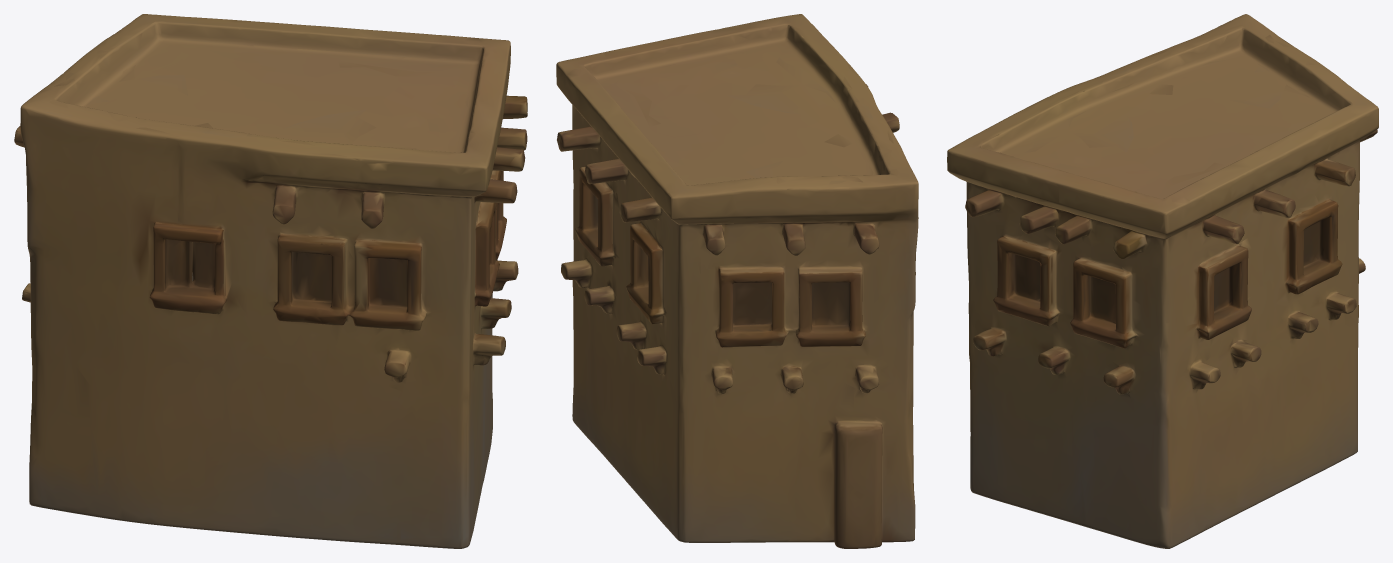
Rendered from building-7.fbx.
3 renders of one model, left to right at view 1: azimuth 30°, elevation 25°; view 2: azimuth 150°, elevation 25°; view 3: azimuth 270°, elevation 25°, orthographic. The views are drawn at different scales.
Visible parts, largest first — view 1: image_Stylized_architectural_model_of_a_building_Hunyuan_3D; view 2: image_Stylized_architectural_model_of_a_building_Hunyuan_3D; view 3: image_Stylized_architectural_model_of_a_building_Hunyuan_3D.
Boxes of the visible parts, <box> form: image_Stylized_architectural_model_of_a_building_Hunyuan_3D: <box>14,14,527,548</box>; image_Stylized_architectural_model_of_a_building_Hunyuan_3D: <box>556,14,918,548</box>; image_Stylized_architectural_model_of_a_building_Hunyuan_3D: <box>947,14,1378,548</box>.
Bounding box in the file's own units: 2463 × 2125 × 2344.
